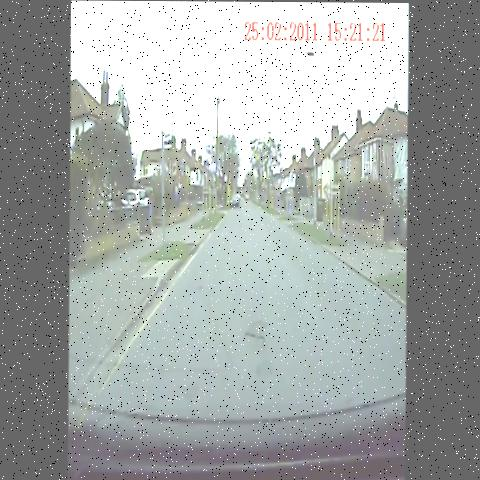pothole: (240, 324, 270, 370)
